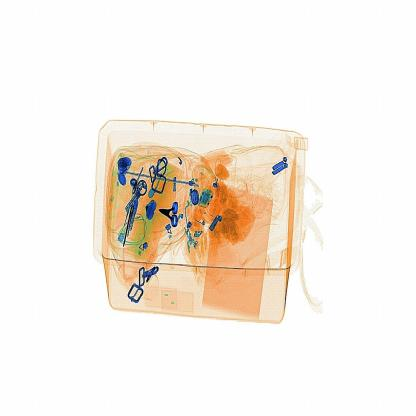gun: (156, 189, 184, 235)
